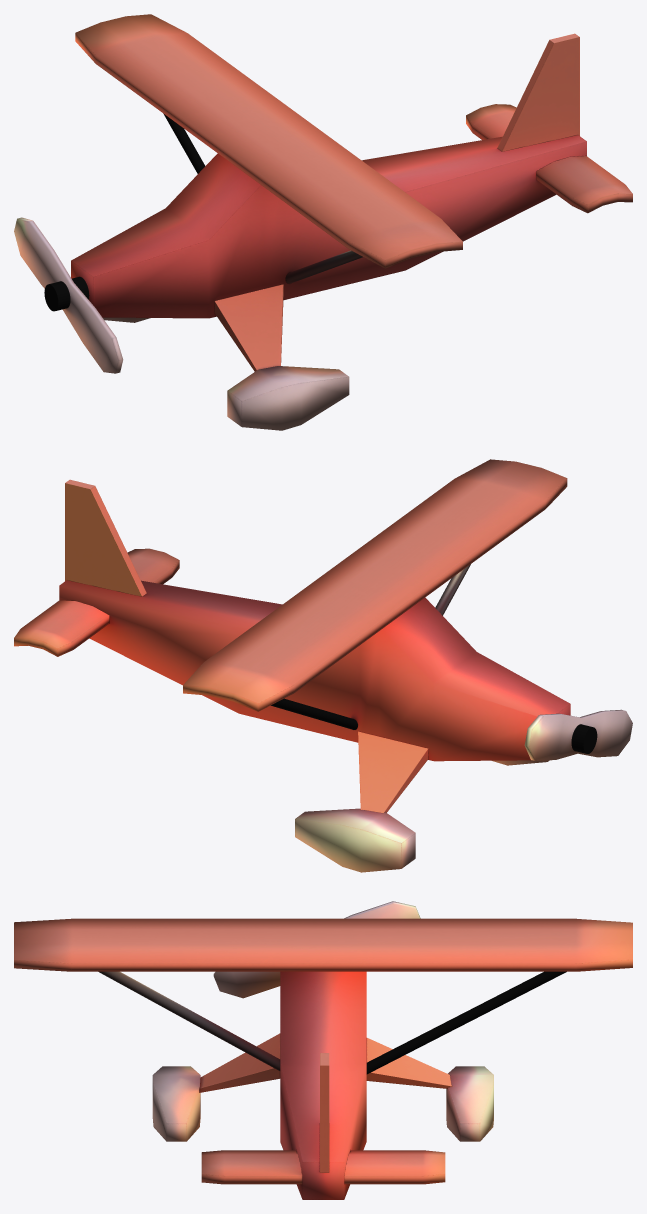
The model's file is Airplane Textured.glb.
The picture shows the model from 3 angles, top to bottom: view 1: azimuth 30°, elevation 25°; view 2: azimuth 150°, elevation 25°; view 3: azimuth 270°, elevation 25°; orthographic projection.
Visible parts, largest first — view 1: Airplane Body, Airplane Body.001, Airplane Body.008, Airplane Body.003, Airplane Body.002, Propeller, Airplane Body.010, Airplane Body.004, Airplane Body.006, Airplane Body.005; view 2: Airplane Body, Airplane Body.001, Airplane Body.009, Airplane Body.003, Airplane Body.002, Airplane Body.011, Propeller, Airplane Body.005, Airplane Body.006; view 3: Airplane Body.001, Airplane Body, Airplane Body.002, Airplane Body.008, Airplane Body.009, Airplane Body.005, Propeller, Airplane Body.004, Airplane Body.010, Airplane Body.011, Airplane Body.003.
Part boxes in pixels (x1,y1,x2,y2): Airplane Body: (71, 135, 586, 318); Airplane Body.001: (75, 14, 462, 268); Airplane Body.008: (227, 366, 349, 430); Airplane Body.003: (497, 33, 579, 151); Airplane Body.002: (466, 104, 632, 213); Propeller: (14, 217, 123, 373); Airplane Body.010: (214, 284, 283, 371); Airplane Body.004: (285, 250, 362, 283); Airplane Body.006: (44, 276, 89, 311); Airplane Body.005: (163, 113, 205, 173); Airplane Body: (59, 580, 570, 761); Airplane Body.001: (183, 459, 567, 711); Airplane Body.009: (295, 808, 415, 872); Airplane Body.003: (65, 479, 146, 596); Airplane Body.002: (14, 548, 179, 656); Airplane Body.011: (358, 731, 428, 813); Propeller: (524, 709, 632, 760); Airplane Body.005: (271, 698, 357, 729); Airplane Body.006: (571, 724, 597, 753); Airplane Body.001: (14, 918, 632, 971); Airplane Body: (280, 971, 366, 1199); Airplane Body.002: (201, 1150, 445, 1184); Airplane Body.008: (152, 1066, 200, 1141); Airplane Body.009: (446, 1066, 493, 1141); Airplane Body.005: (366, 971, 566, 1074); Propeller: (213, 901, 420, 998); Airplane Body.004: (98, 971, 280, 1070); Airplane Body.010: (199, 1033, 280, 1092); Airplane Body.011: (366, 1038, 452, 1088); Airplane Body.003: (320, 1053, 329, 1172).
Bounding box in the file's own units: 14.03 × 6.09 × 14.34.
4 materials, 4 textured.
